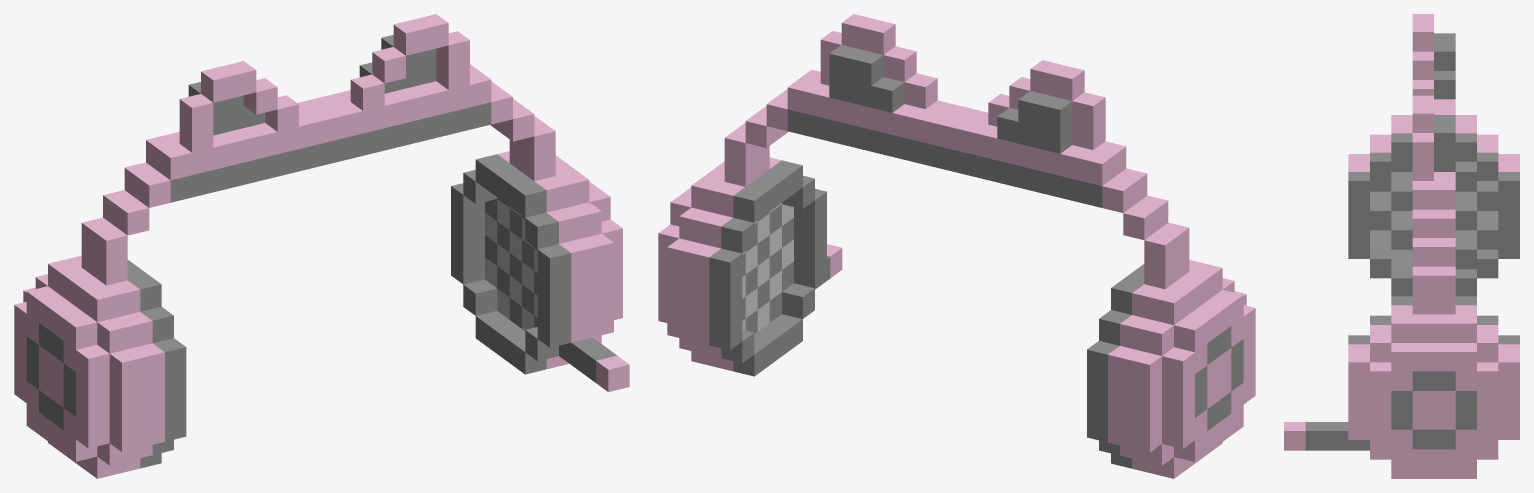
Rendered from accessories_head_razerkrakenkitty.glb.
3 views of the same model, side by side, from view 1: azimuth 30°, elevation 25°; view 2: azimuth 150°, elevation 25°; view 3: azimuth 270°, elevation 25° (orthographic). The views are drawn at different scales.
Parts seen in each view (by area): view 1: model_0; view 2: model_0; view 3: model_0.
Boxes of the visible parts, bbox=[...] form: model_0: bbox=[14, 14, 629, 478]; model_0: bbox=[658, 14, 1255, 478]; model_0: bbox=[1284, 14, 1519, 478].
Size of the model in its own units: 25 by 16 by 11.
